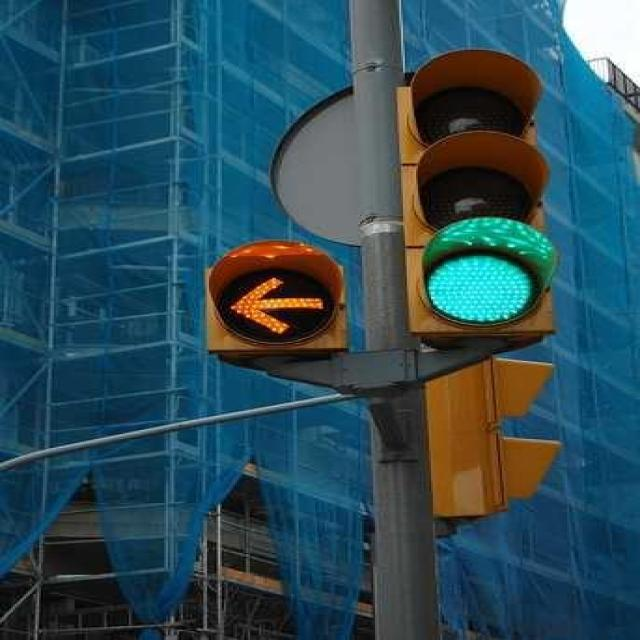Traffic Light -Green-: (397, 10, 545, 352)
